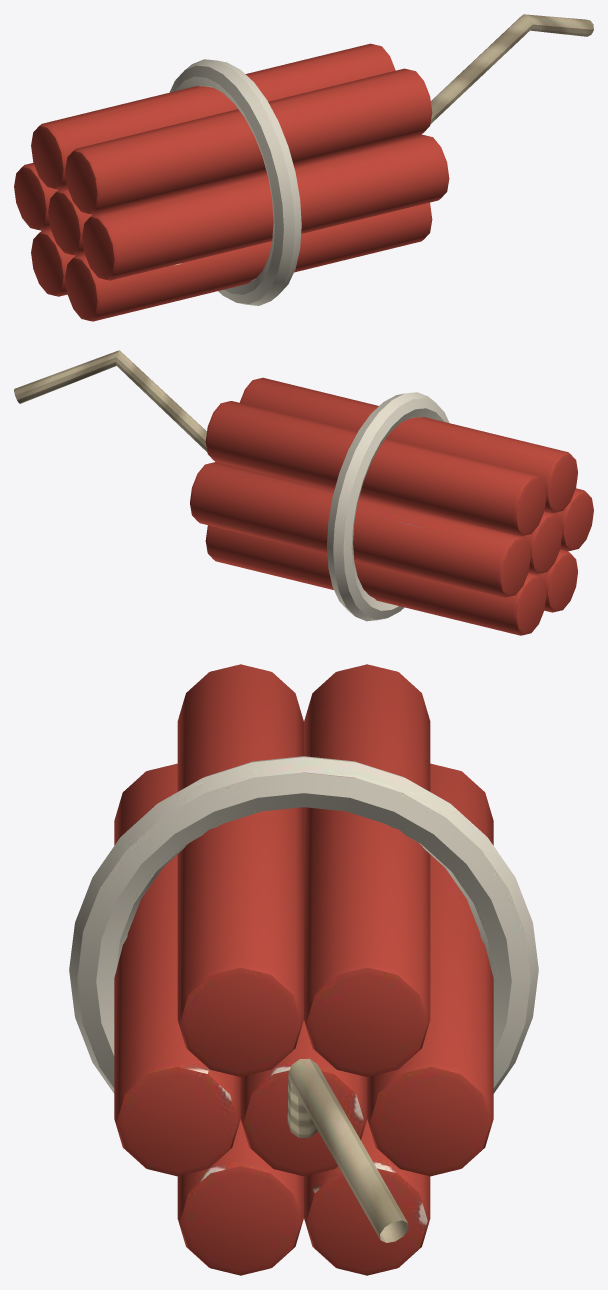
File: crackerjack.glb
The picture shows the model from 3 angles, top to bottom: view 1: azimuth 30°, elevation 25°; view 2: azimuth 150°, elevation 25°; view 3: azimuth 270°, elevation 25°; orthographic projection. The views are drawn at different scales.
Visible parts, largest first — view 1: cracker3, cracker2, cracker4, cracker1, tie, fuse, cracker5, cracker6, cracker0; view 2: cracker0, cracker1, cracker5, cracker2, tie, fuse, cracker4, cracker3, cracker6; view 3: cracker1, cracker2, tie, cracker0, cracker3, cracker4, cracker5, cracker6, fuse.
Part boxes in pixels (box(x1,y1,x2,y2)): cracker3: box(82, 134, 449, 280); cracker2: box(65, 68, 432, 214); cracker4: box(65, 202, 432, 321); cracker1: box(31, 43, 395, 189); tie: box(169, 59, 301, 305); fuse: box(430, 14, 593, 124); cracker5: box(31, 228, 75, 296); cracker6: box(48, 187, 92, 255); cracker0: box(14, 162, 58, 230); cracker0: box(190, 462, 530, 597); cracker1: box(205, 401, 546, 536); cracker5: box(205, 525, 546, 635); cracker2: box(239, 377, 577, 513); tie: box(327, 392, 449, 621); fuse: box(14, 350, 207, 451); cracker4: box(537, 549, 577, 612); cracker3: box(553, 488, 593, 551); cracker6: box(521, 511, 562, 574); cracker1: box(304, 664, 430, 1076); cracker2: box(177, 664, 303, 1076); tie: box(69, 756, 538, 1093); cracker0: box(367, 763, 493, 1176); cracker3: box(114, 763, 240, 1176); cracker4: box(177, 1119, 303, 1275); cracker5: box(304, 1119, 430, 1275); cracker6: box(240, 1020, 367, 1176); fuse: box(287, 1058, 408, 1242).
Size of the model in its own units: 0.131 by 0.052 by 0.052.
Materials: 1 (1 with a texture image).
